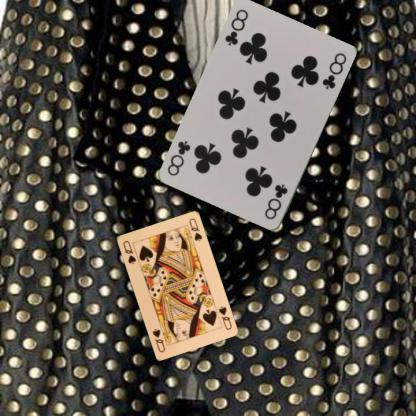8c: (222, 7, 250, 47), (262, 182, 289, 222)
Qs: (215, 303, 233, 331), (120, 238, 137, 265)
